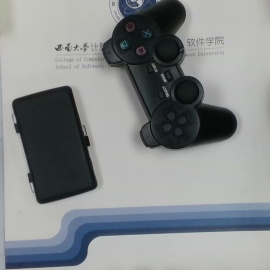remote: (103, 1, 237, 148)
